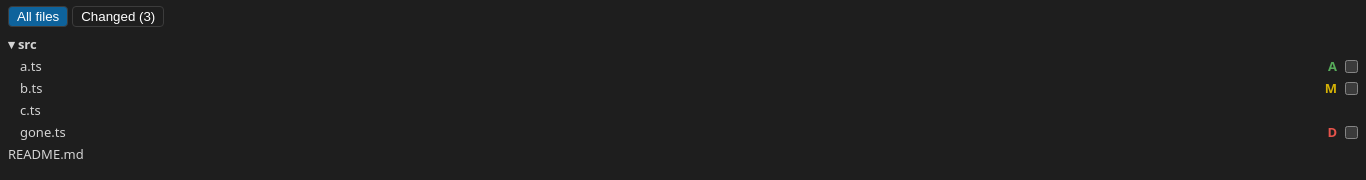
it: FileTree › toggle switches between all files and changed files
The width and height of the screenshot is (1366, 180).
Expected: the text "README.md" is shown, [8,145,84,163]
Step 1. Click the button "Changed (3)" → (118, 16), box [72,6,164,27]
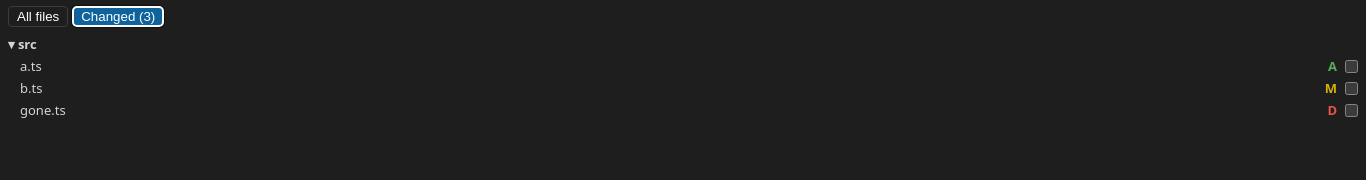
Expected: the text "gone.ts" is shown, [20,101,66,119]
Result: the text "README.md" is gone
Result: the text "c.ts" is gone
